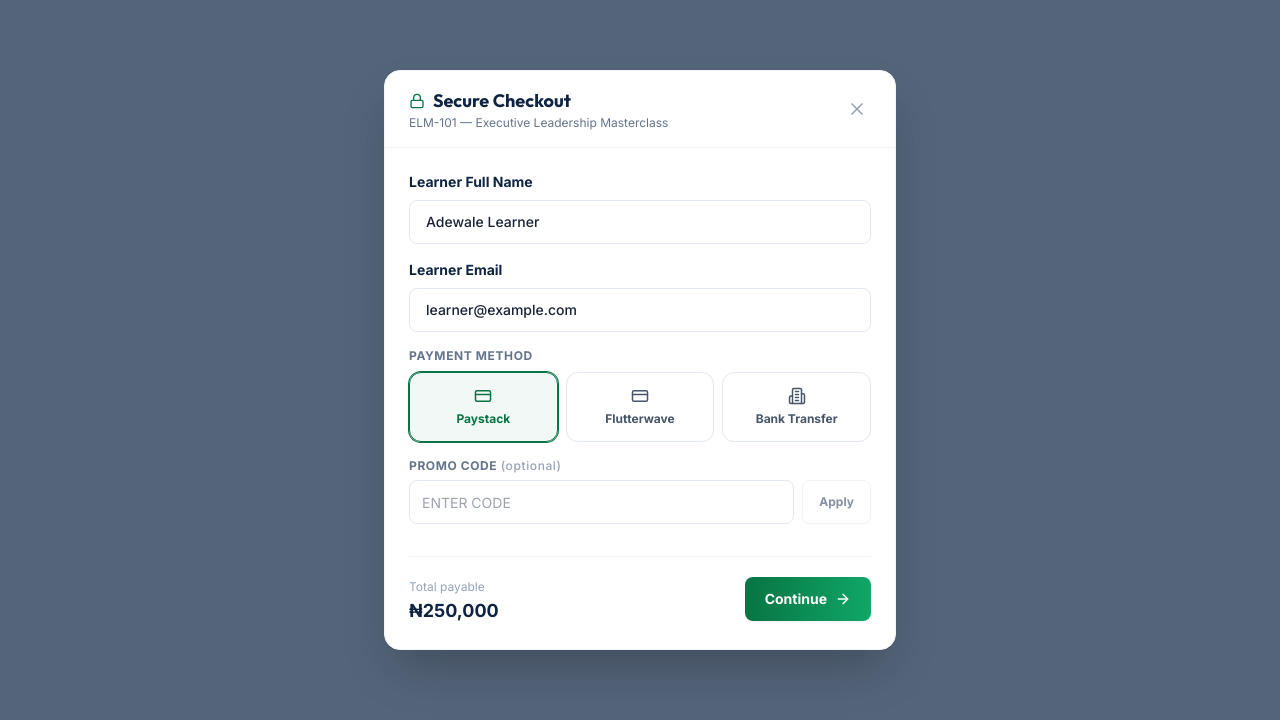
it: CheckoutModal Component (src/components/CheckoutModal.tsx) › applies promo code discount when valid code is entered
The width and height of the screenshot is (1280, 720).
Step 1. Type "LANI20" into the field with placeholder "Enter code" → (602, 502), box [409, 480, 794, 524]
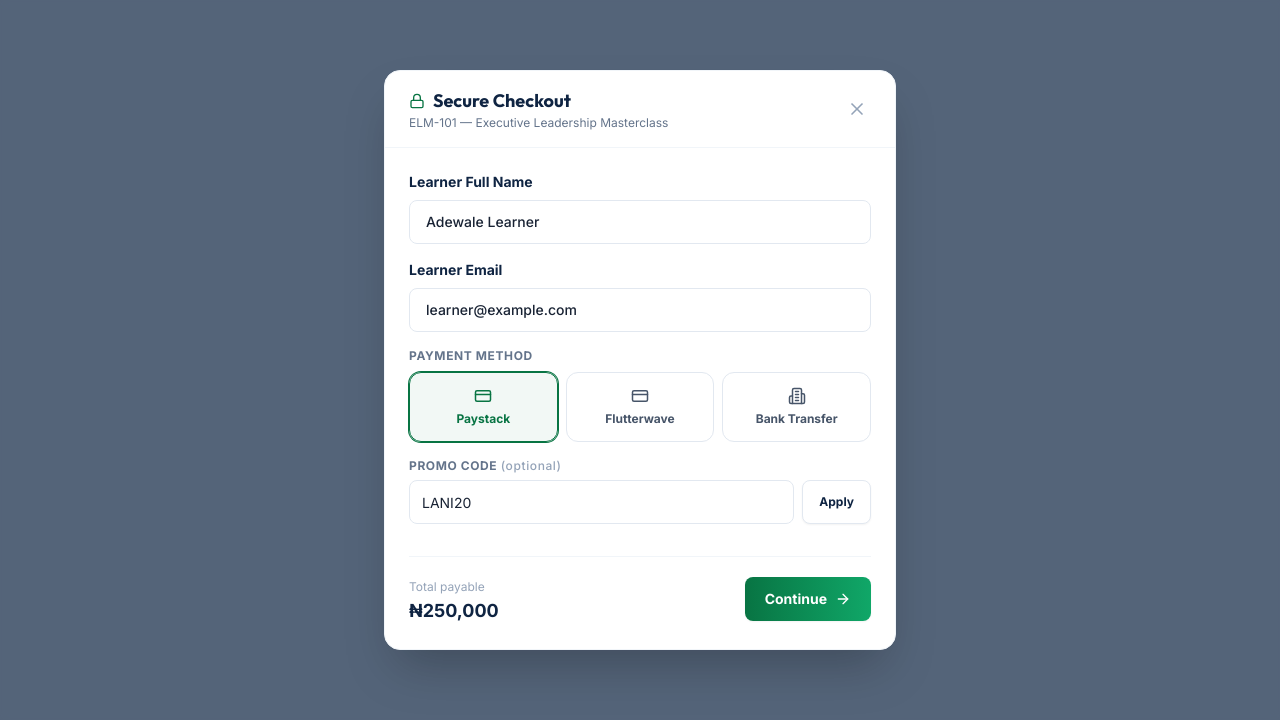
Step 2. Click the button "Apply" → click(837, 502), box [802, 480, 871, 524]
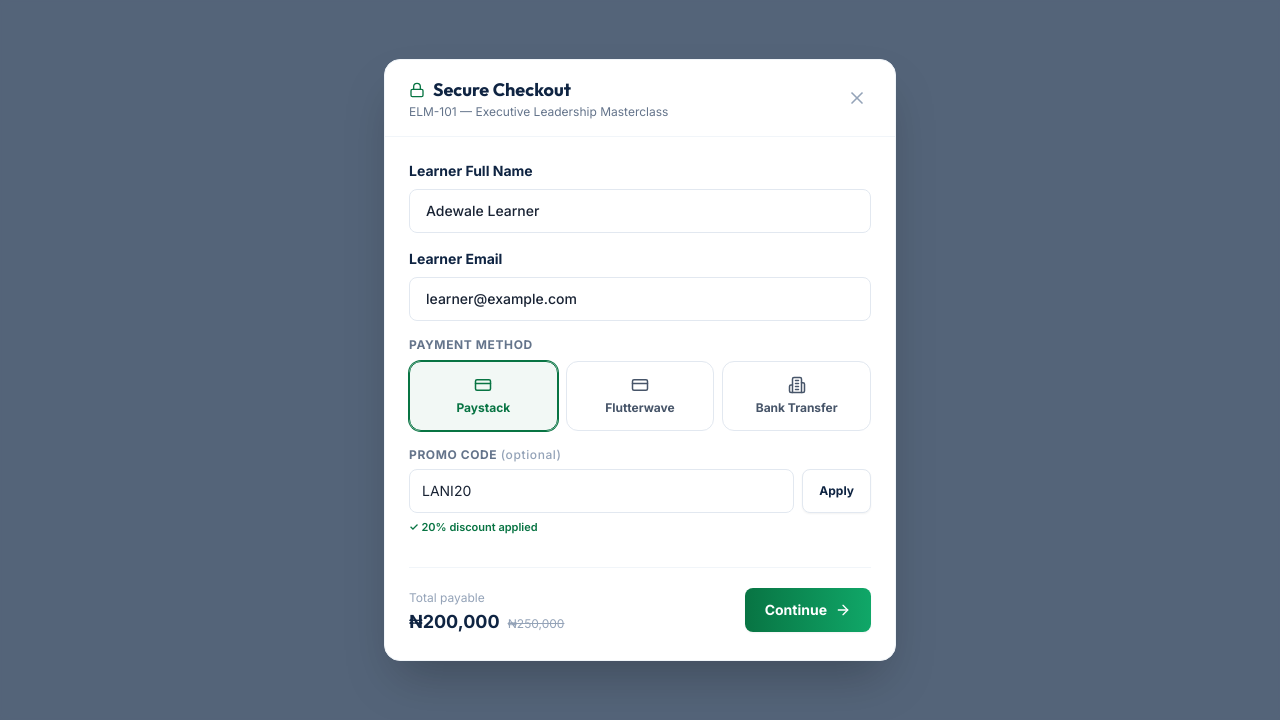
Expected: the text "✓ 20% discount applied" is shown, [409, 520, 538, 534]
Expected: the text "₦200,000" is shown, [409, 608, 500, 636]
